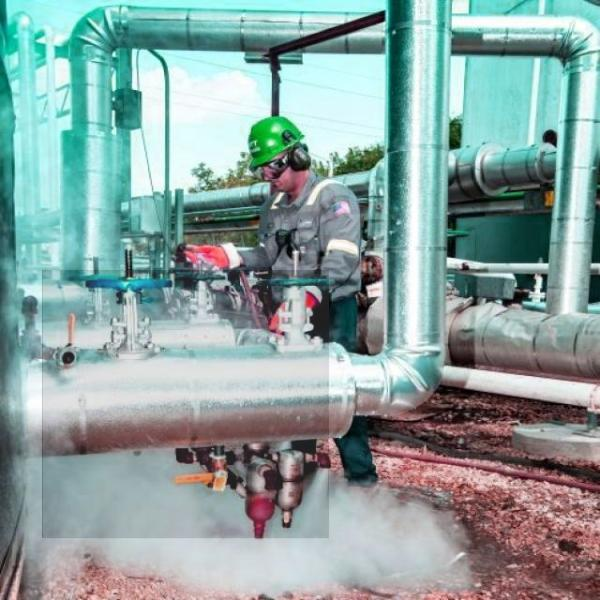gas: (43, 270, 329, 538)
